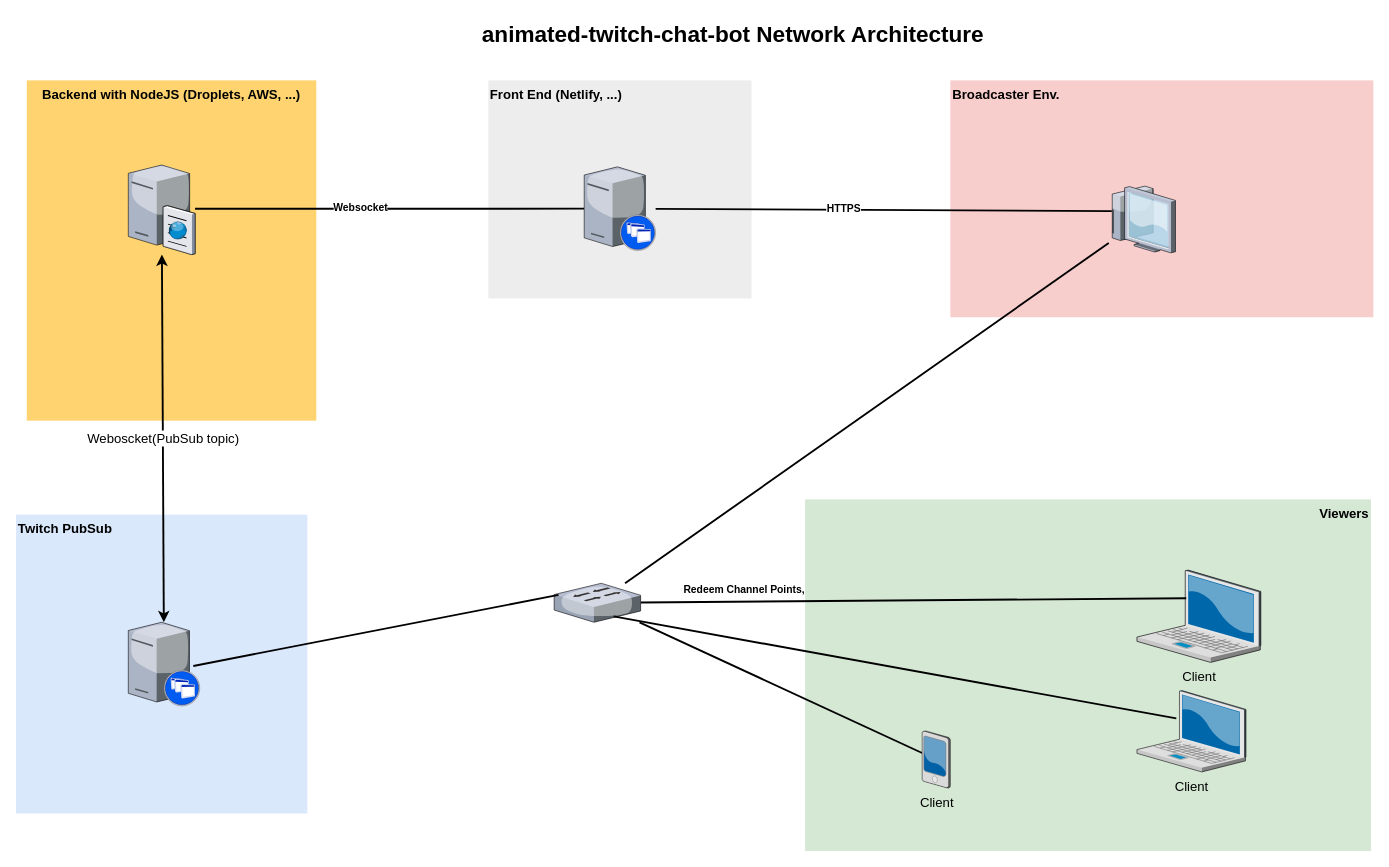
Image size: 1389x867. Some labels were removed from this diagram. Here are the shapes that lost their labels. From the top down, the centre of each, then its label:
At pixel 161 208: "HTTPS Web Server".
At pixel 619 208: "HTTPS Webserver".
At pixel 1141 219: "OBS Client".
